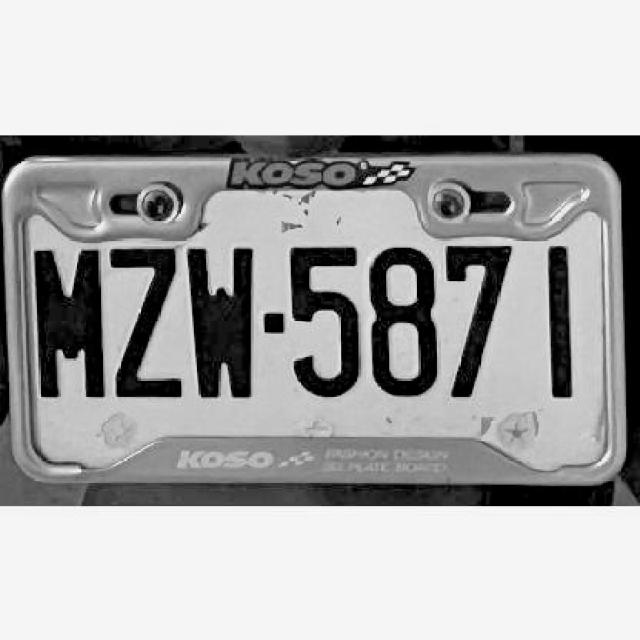-: (262, 314, 284, 335)
1: (543, 243, 574, 395)
5: (290, 238, 364, 400)
7: (443, 238, 519, 394)
8: (364, 240, 442, 398)
M: (32, 248, 106, 397)
W: (188, 243, 258, 399)
Z: (106, 245, 180, 403)
